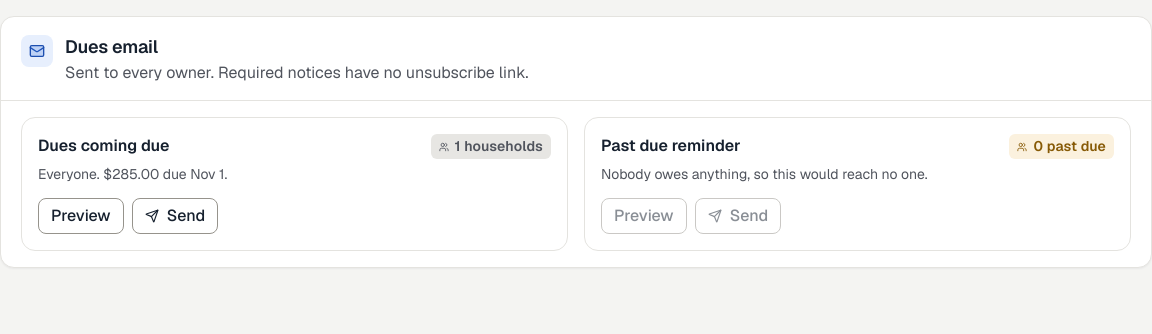
Test case: the dues email card › shows the already sent count under a preview
Click the button "Preview" below "Everyone. $285.00 due Nov 1.".
click(81, 216)  # box top-left (38, 198), bottom-right (124, 234)
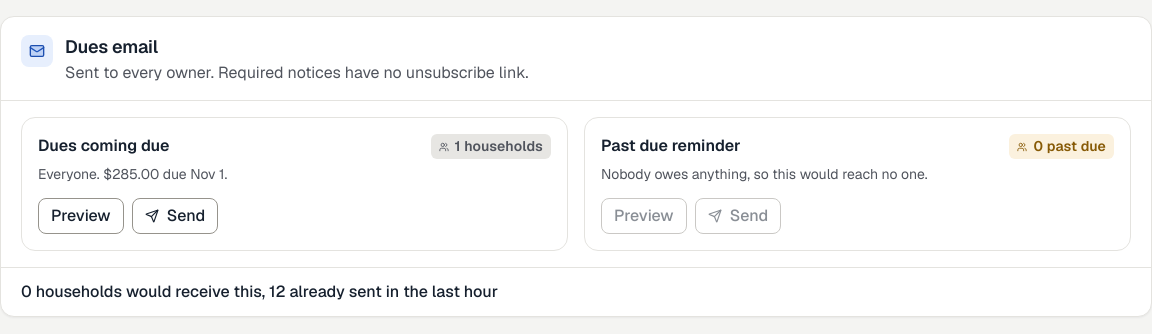
Result: the text "0 households would receive this, 12 already sent in the last hour" is shown at top-left (21, 281), bottom-right (498, 302)
